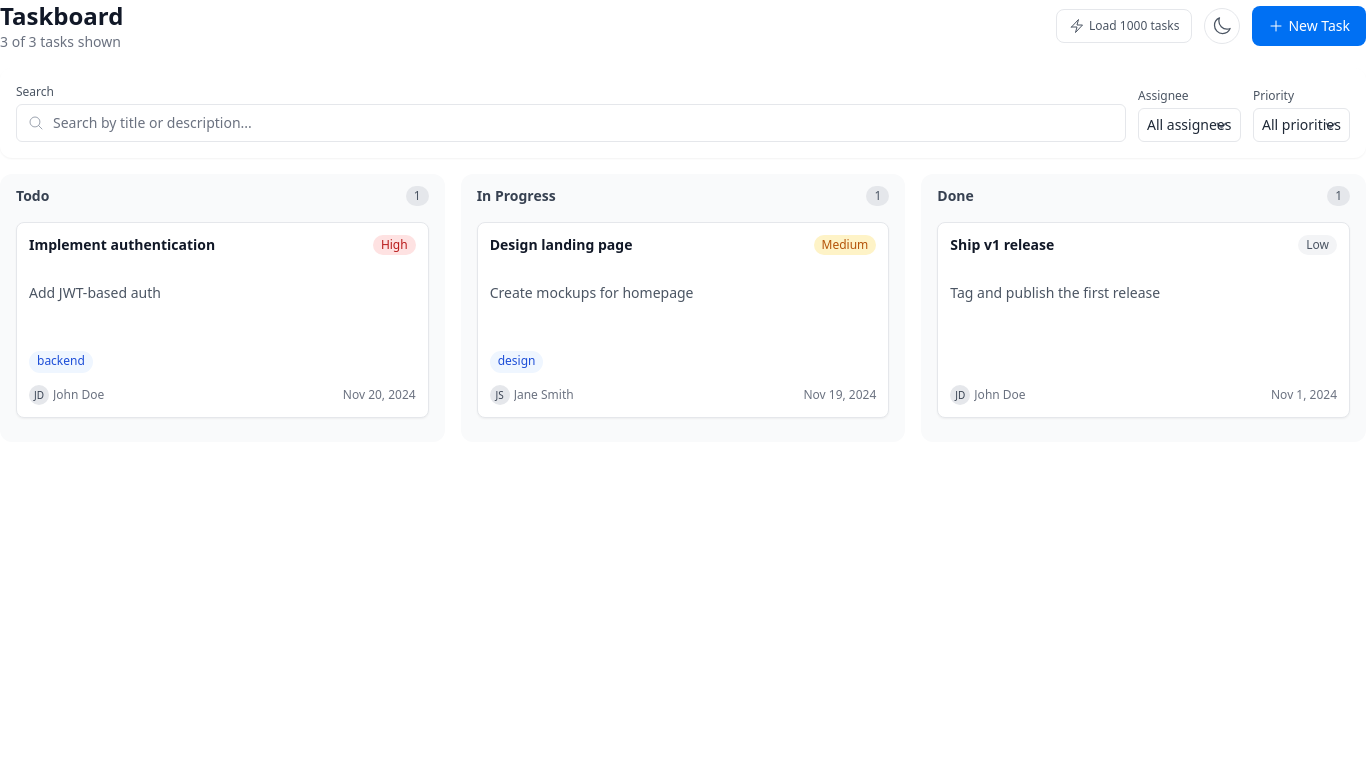
Test case: TaskBoard › editing and deleting tasks › saves edits and reflects them on the card
Click the list item with test id "task-card-1". click: [222, 320]
box: left=16, top=222, right=429, bottom=418
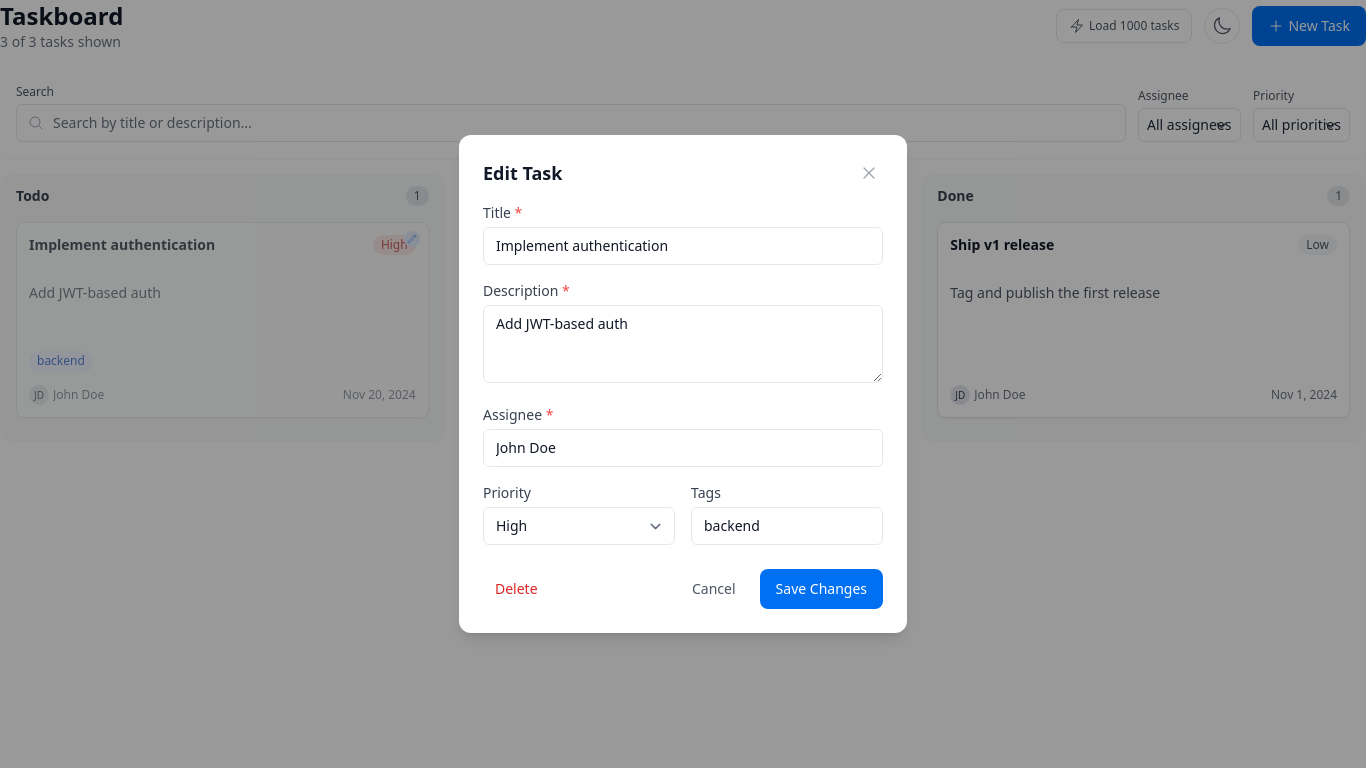
Replace the text in the field labelled "Title *" with "Implement OAuth". click: [683, 246]
box: left=483, top=227, right=883, bottom=265
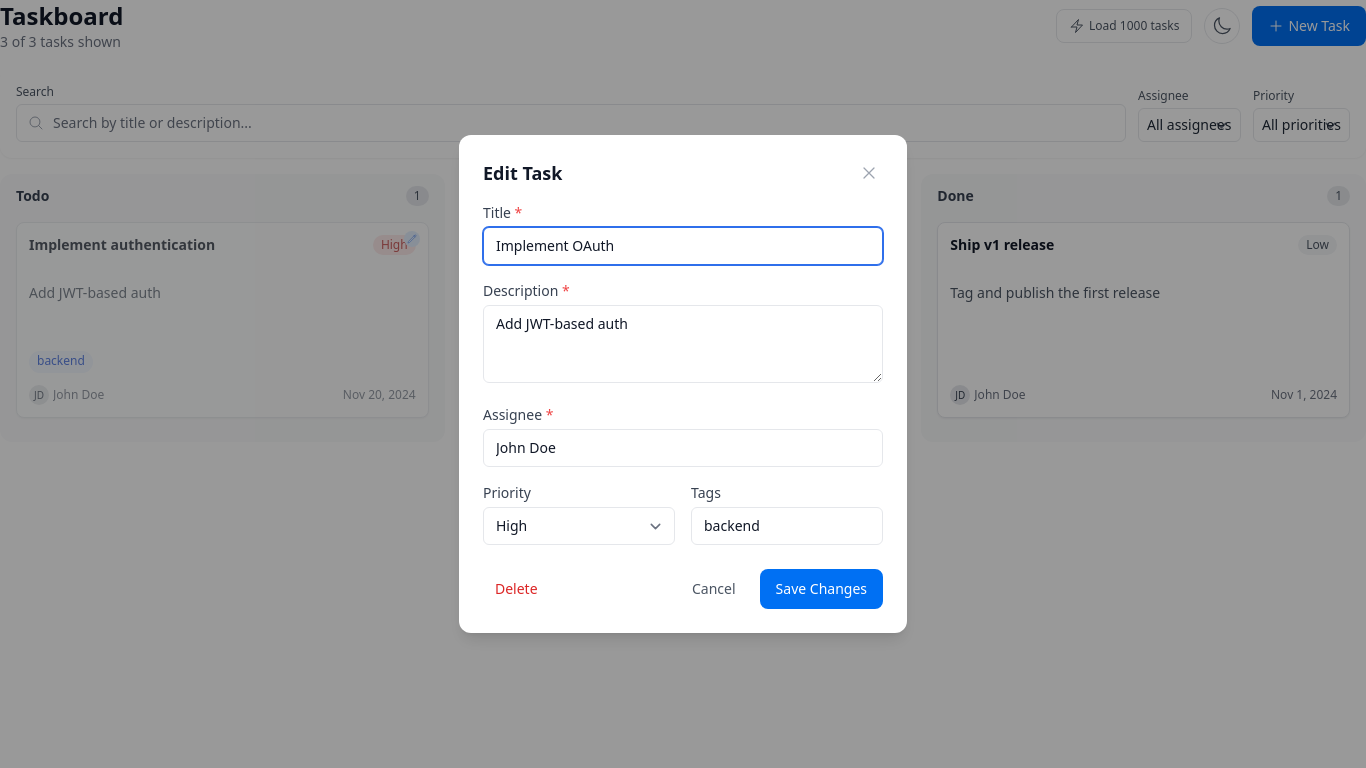
Click the button "Save Changes". click: [821, 589]
box: left=760, top=569, right=883, bottom=609
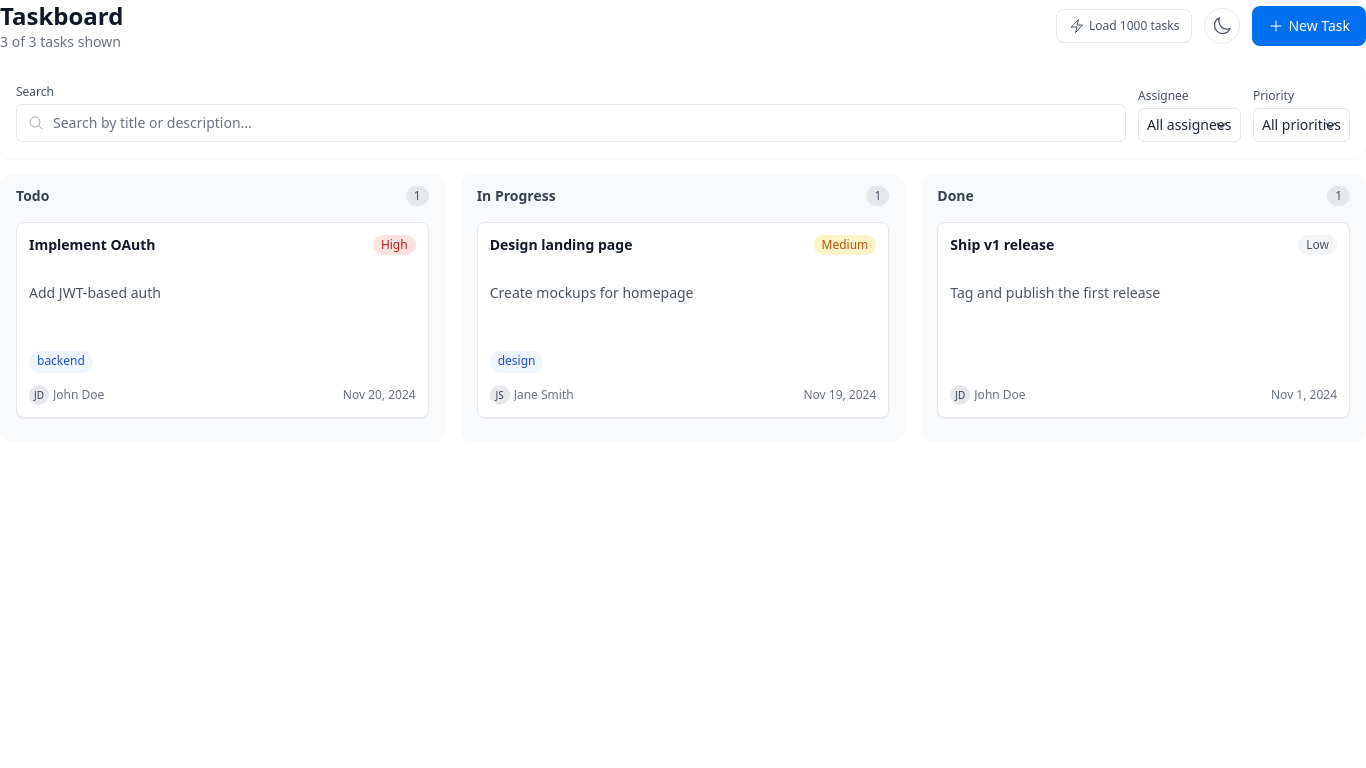
Now the dialog is gone
Now the heading "Implement OAuth" is shown, box left=29, top=235, right=156, bottom=254
Now the heading "Implement authentication" is gone
